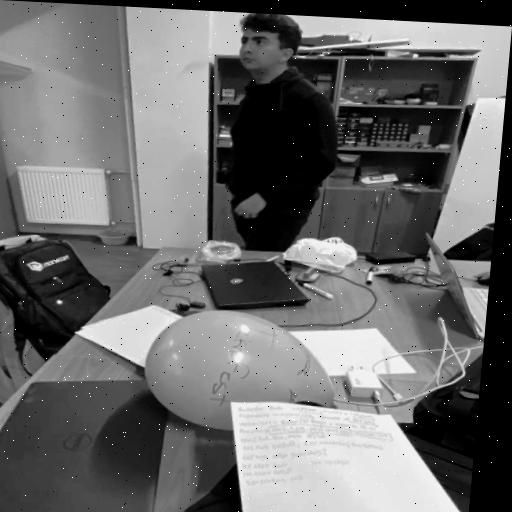balloon: (144, 304, 353, 433)
